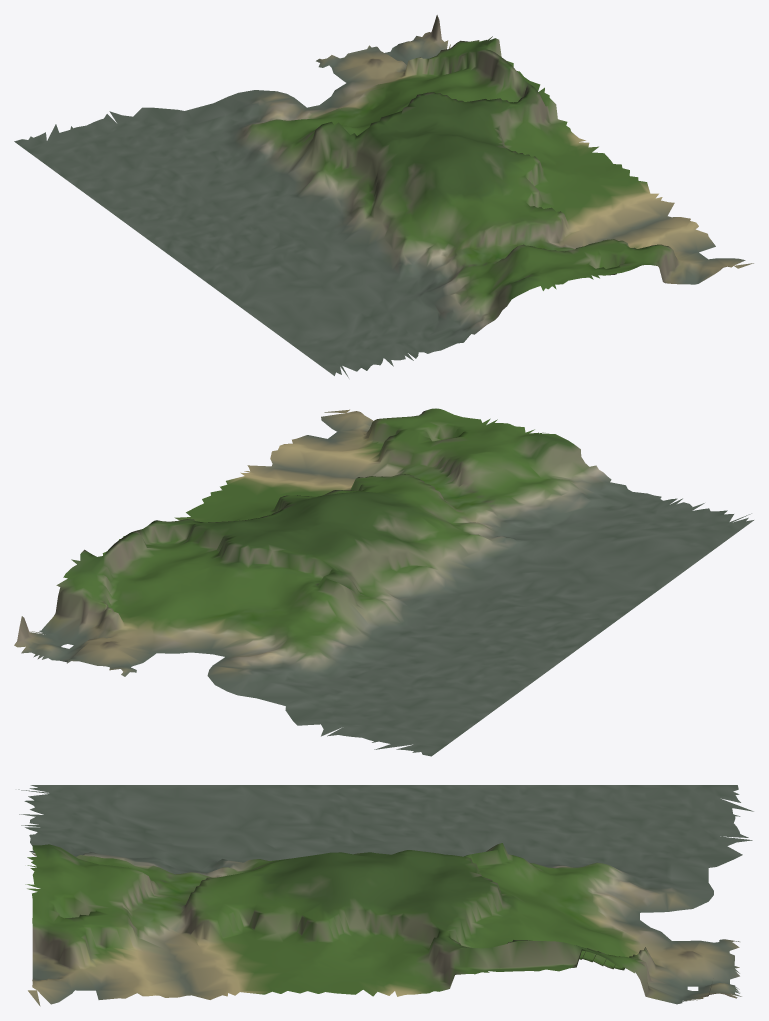
The model's file is coast_tile_x0z2_lod1.glb.
3 renders of one model, top to bottom at view 1: azimuth 30°, elevation 25°; view 2: azimuth 150°, elevation 25°; view 3: azimuth 270°, elevation 25°, orthographic. The views are drawn at different scales.
Parts seen in each view (by area): view 1: coast_tile_x0z2_lod1; view 2: coast_tile_x0z2_lod1; view 3: coast_tile_x0z2_lod1.
Boxes of the visible parts, box(x1,y1,x2,y2) form: coast_tile_x0z2_lod1: box(14, 15, 753, 377); coast_tile_x0z2_lod1: box(14, 408, 753, 756); coast_tile_x0z2_lod1: box(18, 785, 753, 1006).
Bounding box in the file's own units: 615 × 82.35 × 842.
